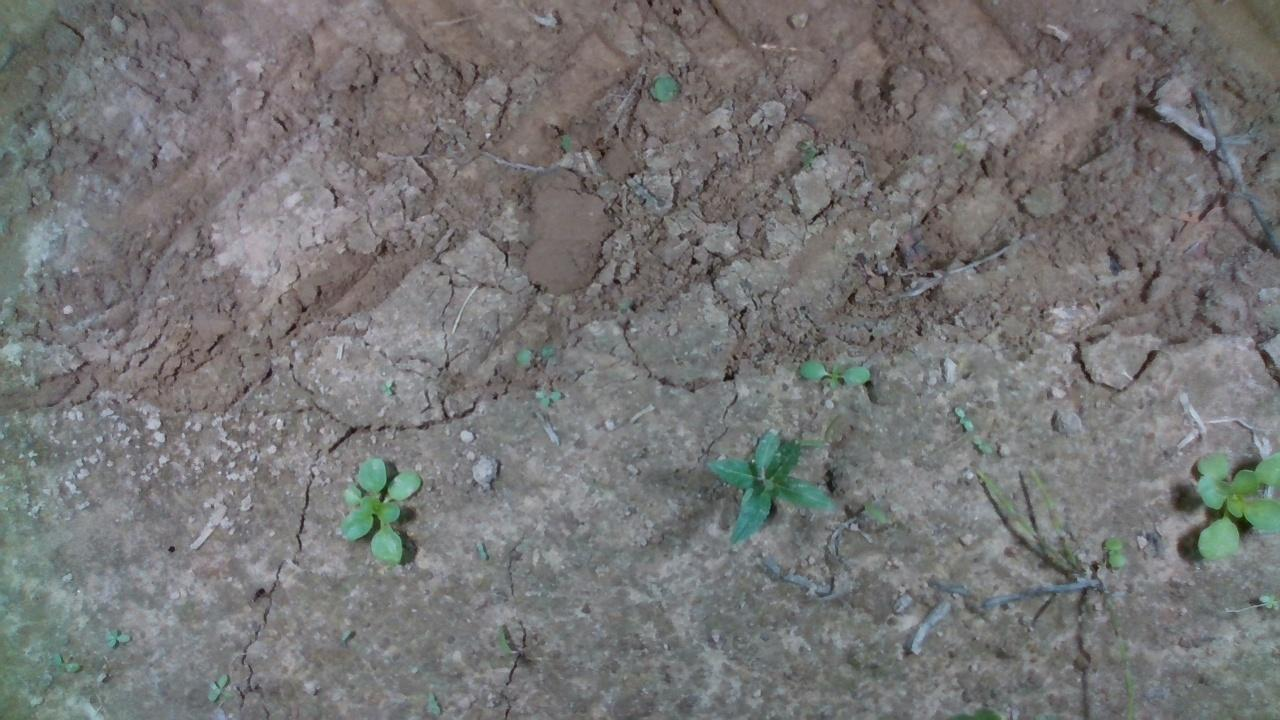weed: (798, 357, 871, 391), (529, 380, 564, 410), (205, 670, 235, 702), (1102, 534, 1127, 570), (951, 402, 974, 431), (51, 651, 81, 673), (102, 626, 131, 648), (970, 434, 992, 456)
